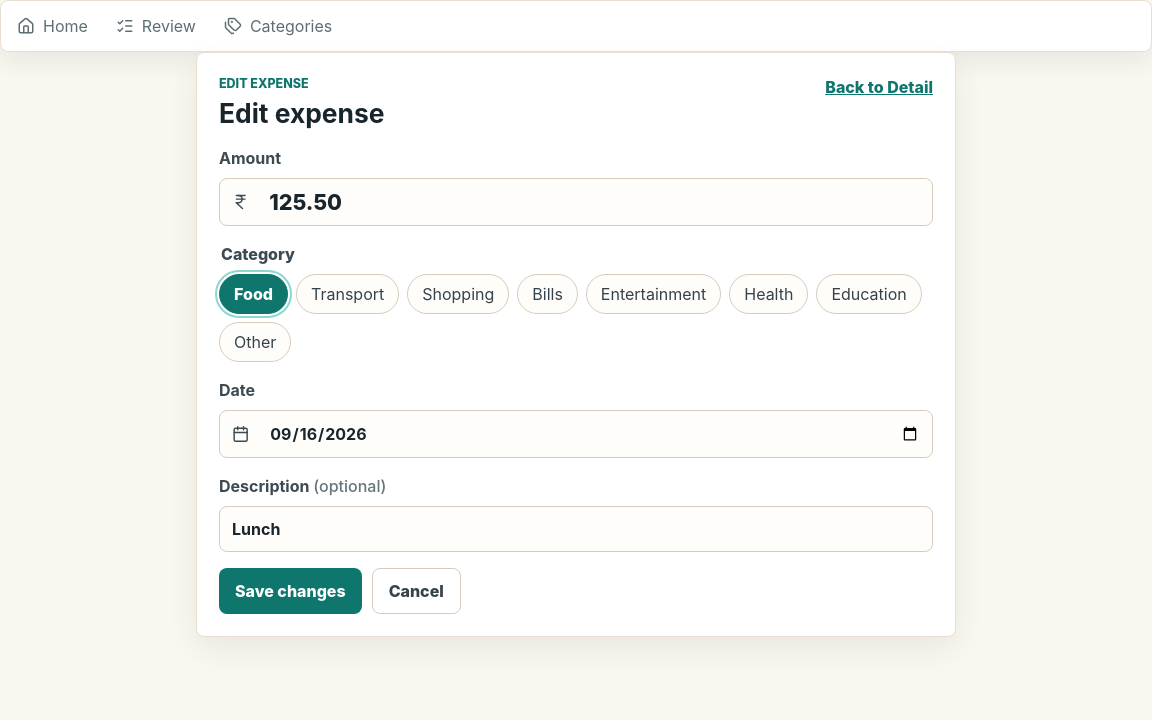
Home shell › prefills edit fields and updates valid values before returning to detail
Check: the date field labelled "Date" holds "2026-09-16", box [257,411,932,457]
Check: the field labelled "Description (optional)" holds "Lunch", box [219,506,933,552]
Replace the text in the field labelled "Amount" with "200.00": coordinates (595, 202) [257,179,932,225]
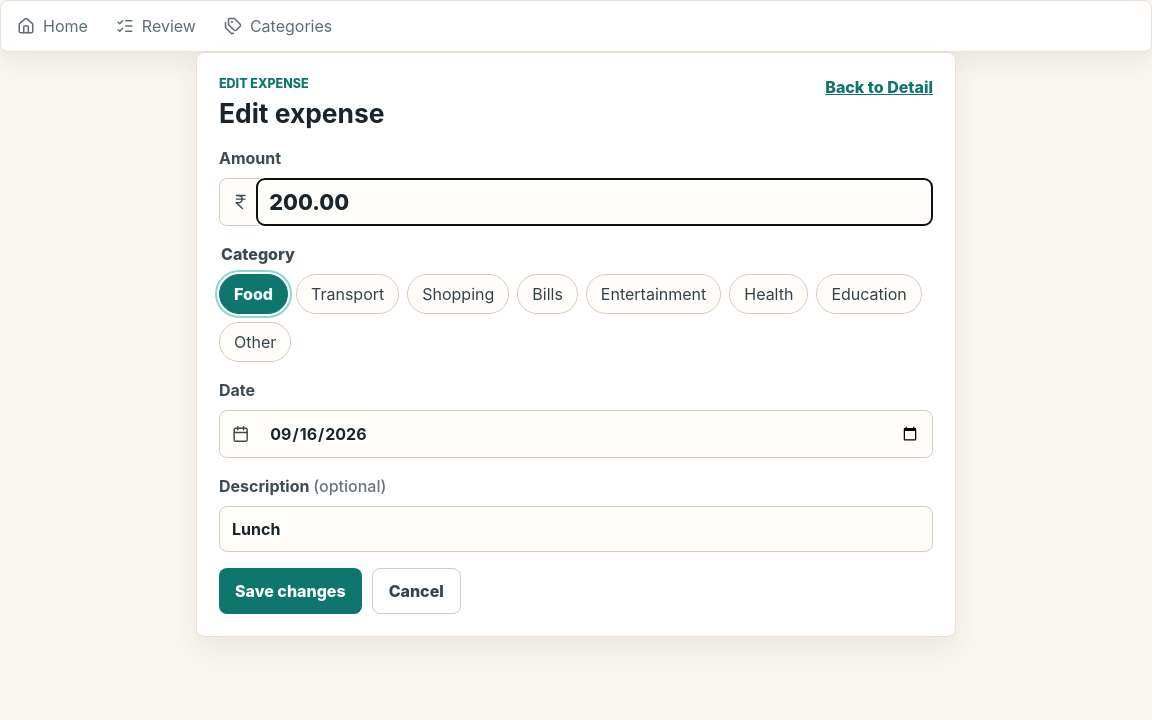
Click the button "Transport": coordinates (348, 294) [296,274,399,314]
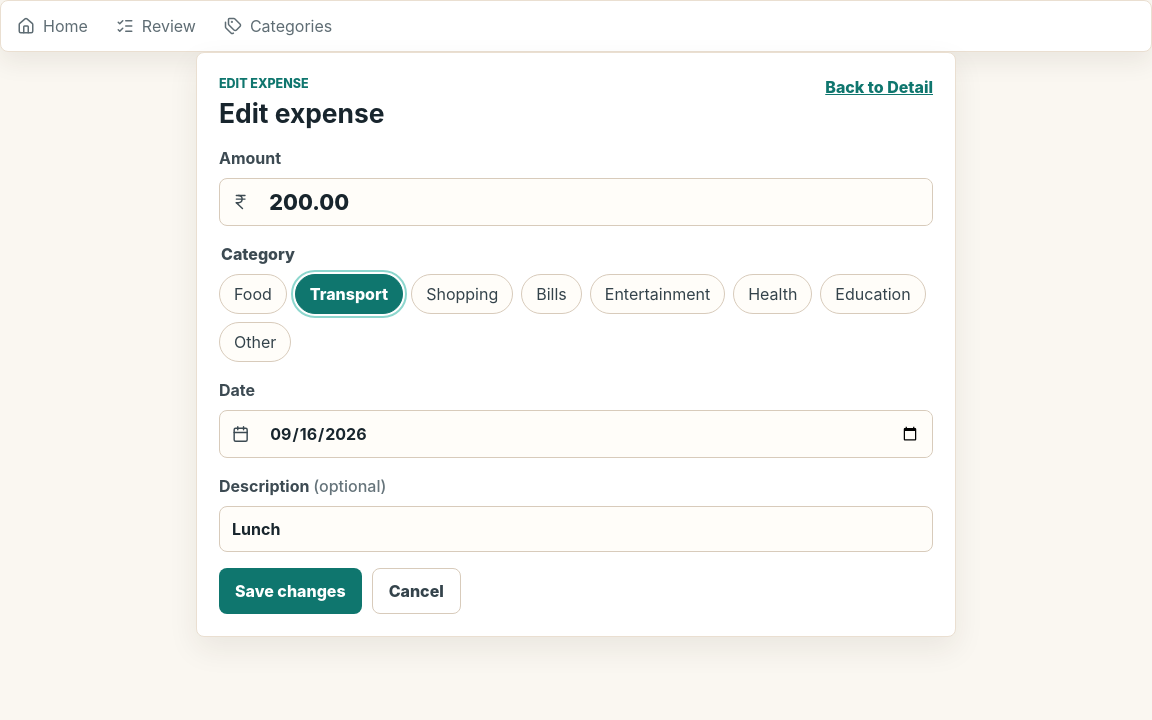
In the date field labelled "Date": coordinates (595, 434) [257,411,932,457], type "2026-09-17"
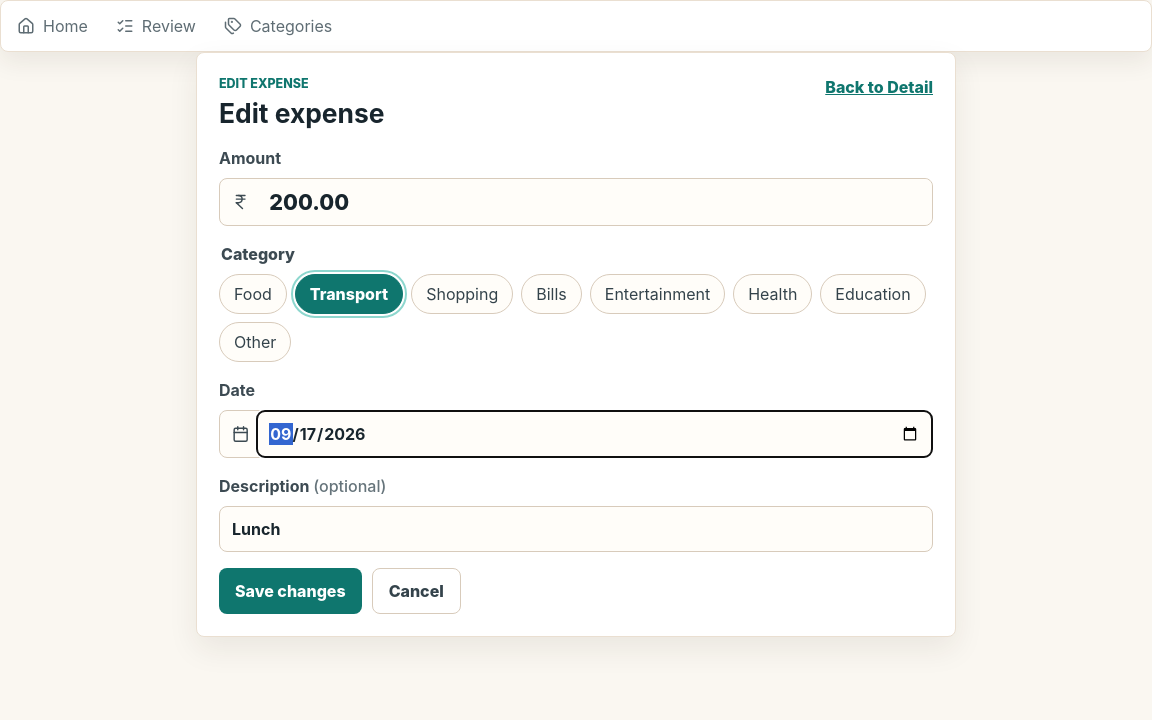
Replace the text in the field labelled "Description (optional)" with "Auto ride": coordinates (576, 529) [219,506,933,552]
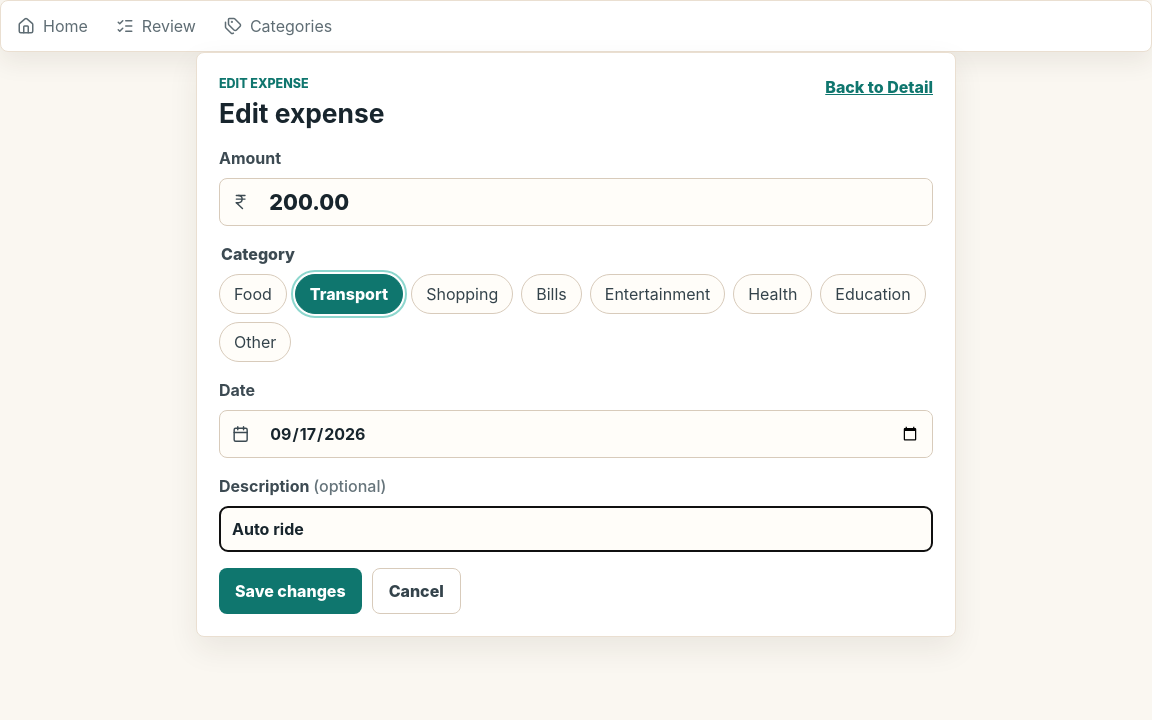
Click the button "Save changes": coordinates (290, 591) [219,568,362,614]
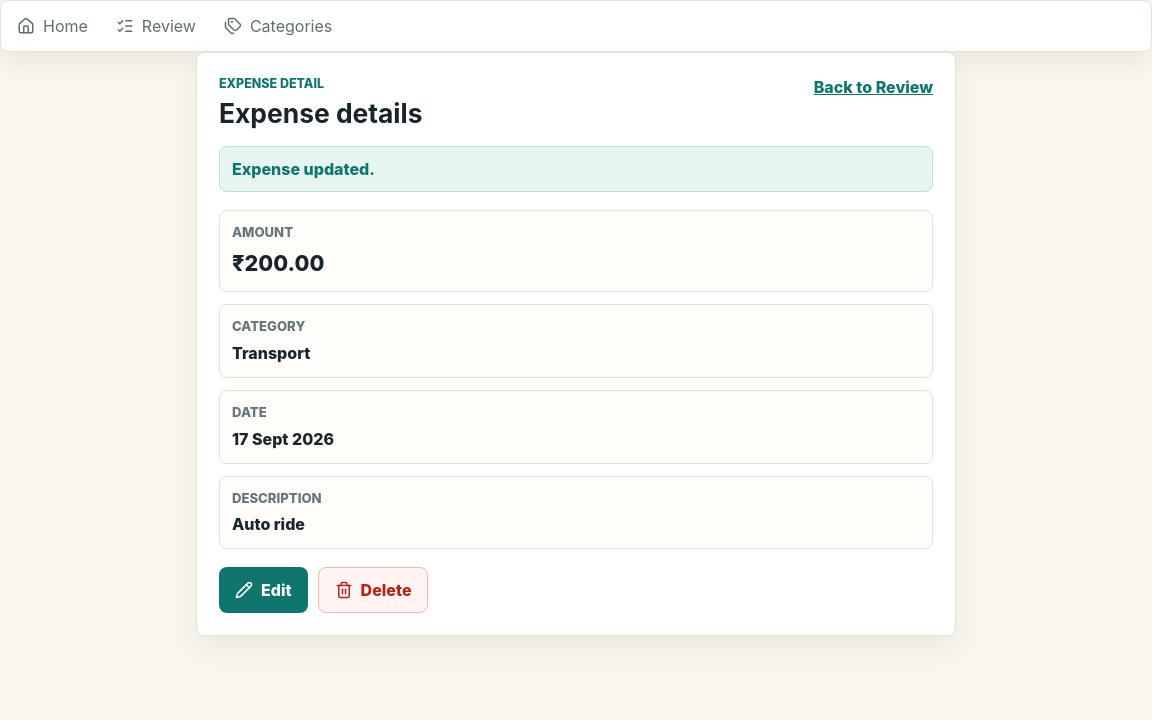
Check: the text "Expense updated." is shown, box [219,146,933,192]
Check: the text "₹200.00" is shown, box [232,250,324,276]
Check: the text "17 Sept 2026" is shown, box [232,429,334,449]
